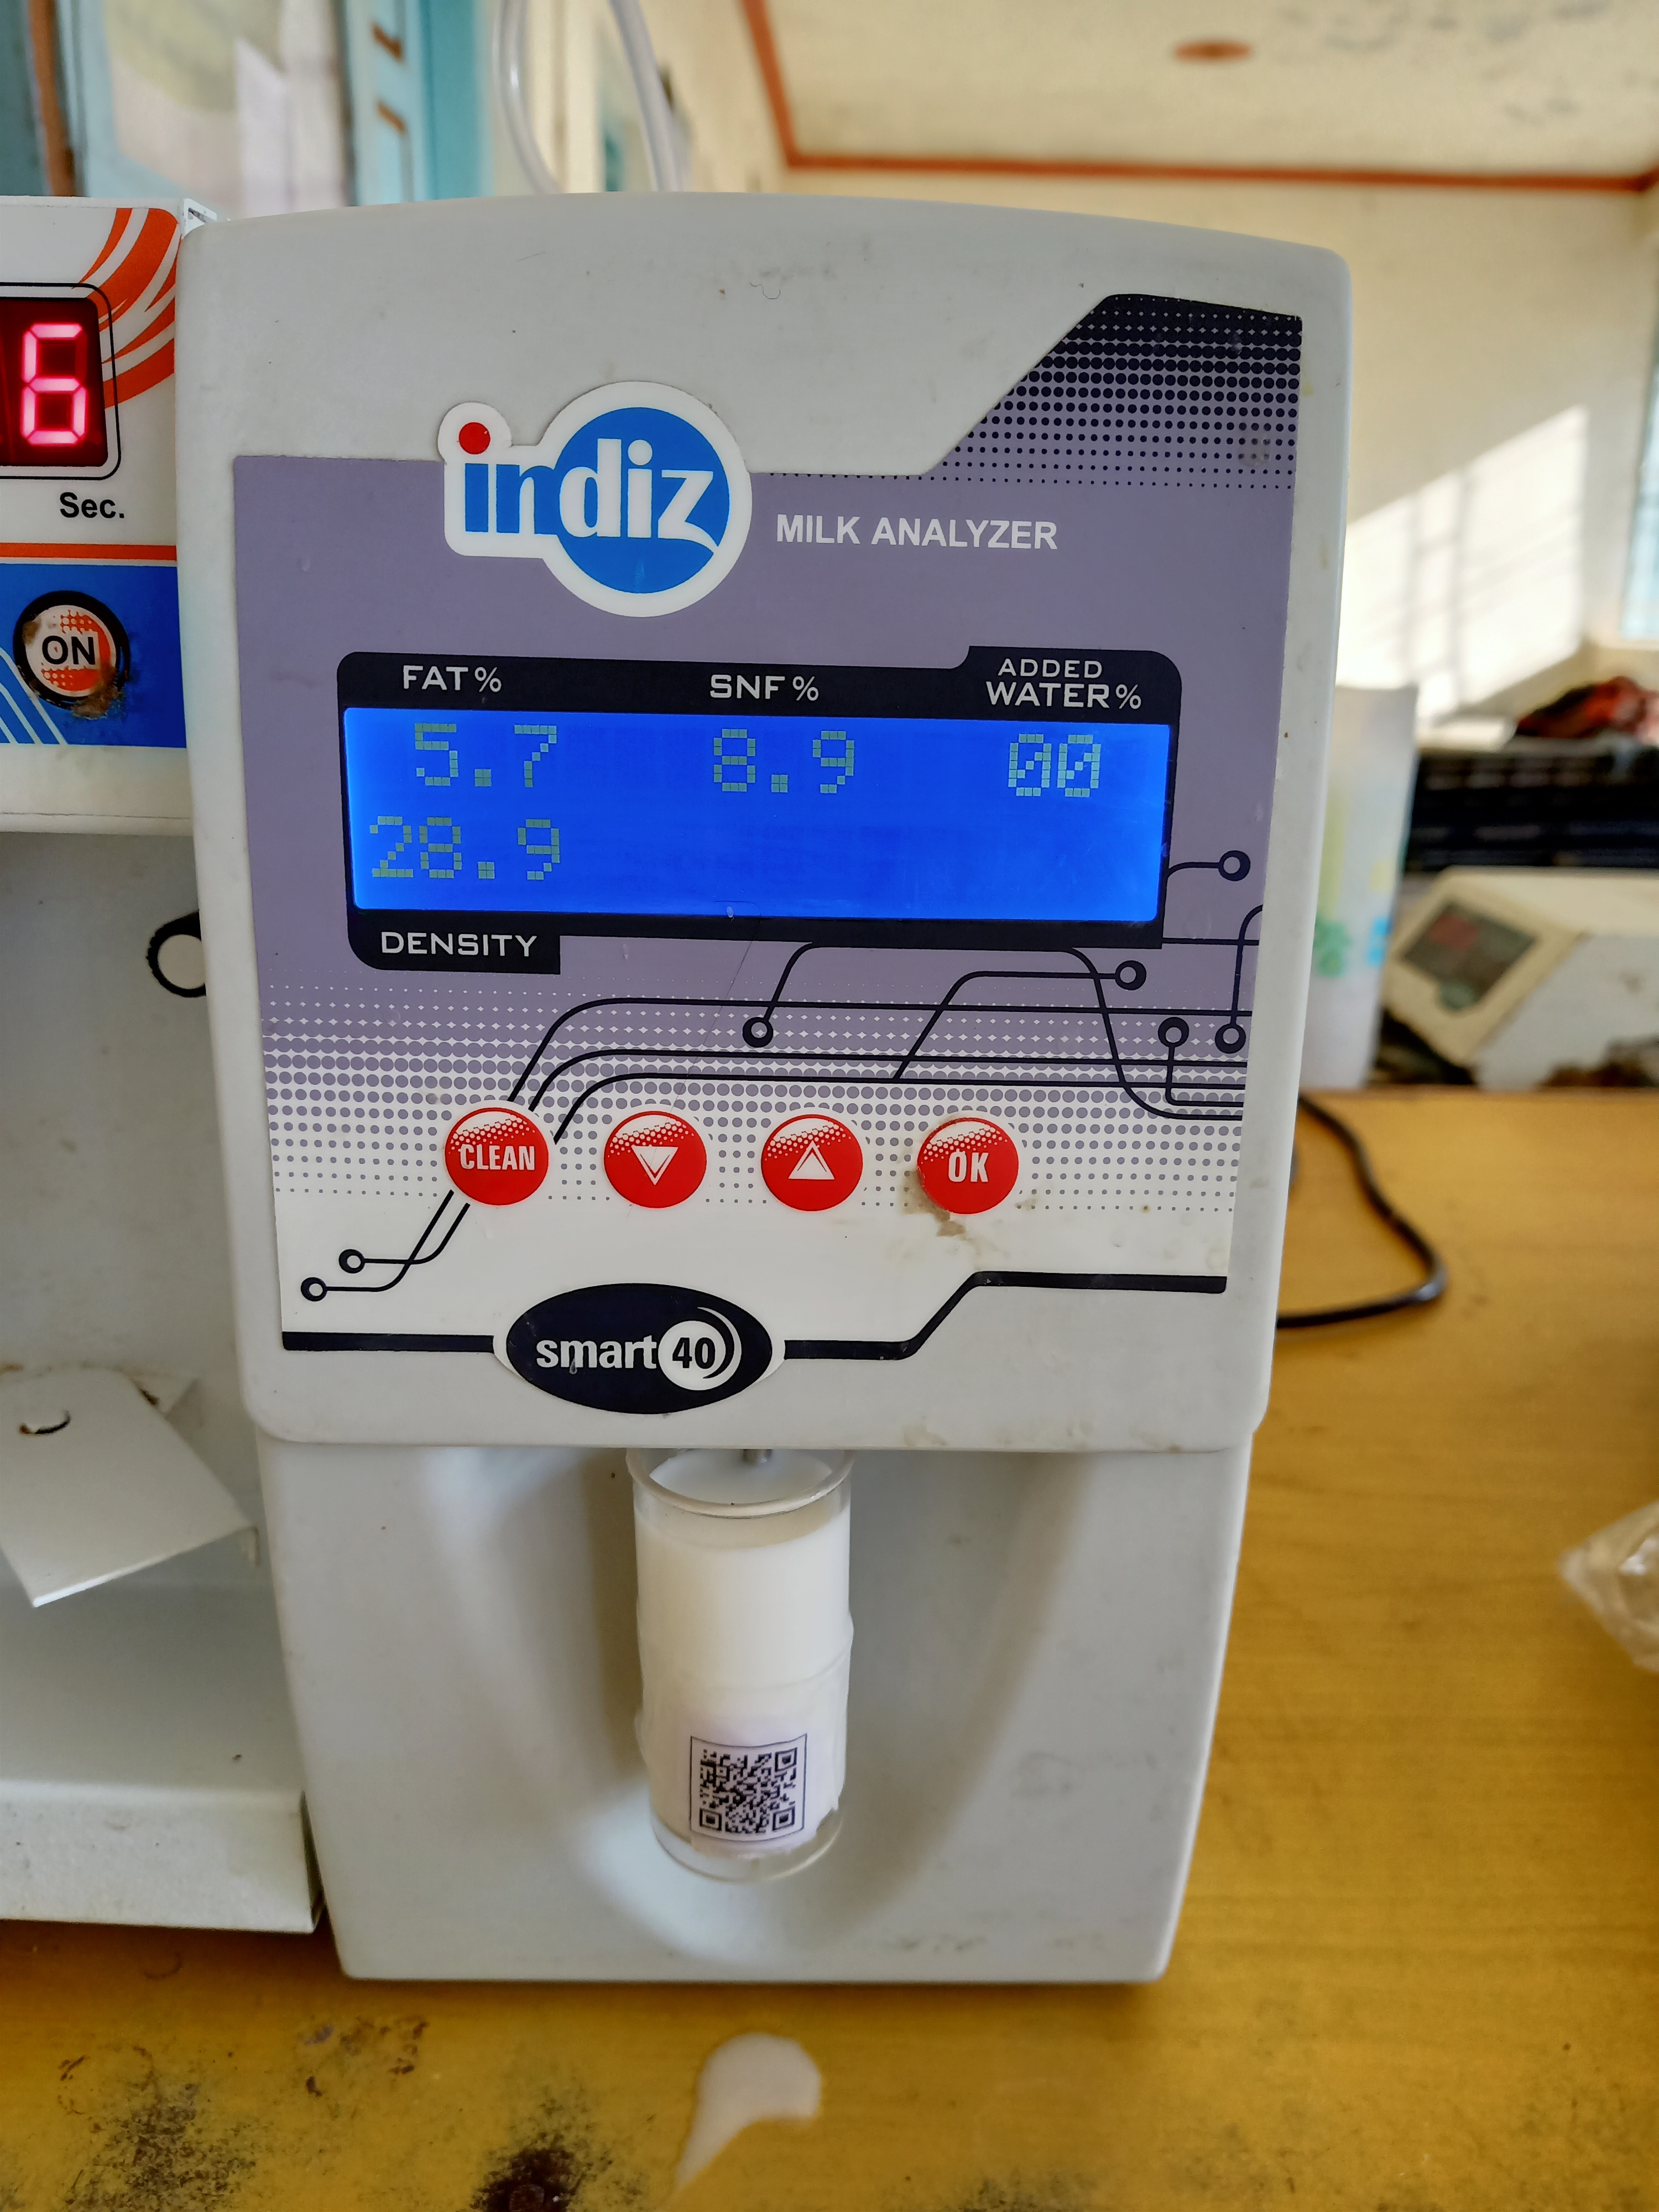lcd: (305, 618, 1190, 1012)
qr: (676, 1721, 814, 1878)
